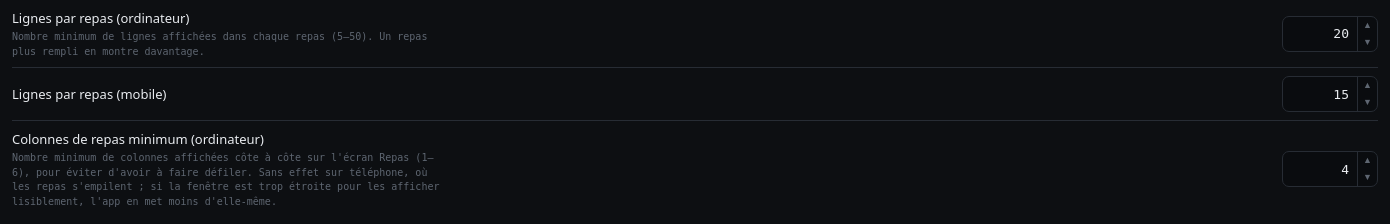
MealLinesFields — minimum meal columns (B-244) › applies the same rule to the line floors (5..50), unchanged by the extraction
Replace the text in the number field named "Lignes par repas (ordinateur)" with "25" at (1330, 34), box [1282,16,1378,52]
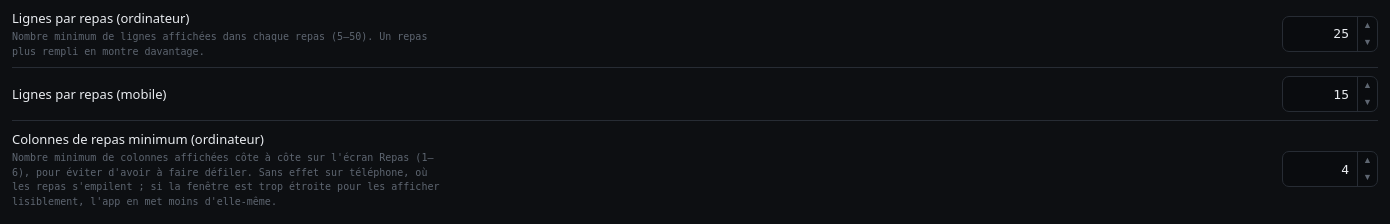
Replace the text in the number field named "Lignes par repas (ordinateur)" with "1" at (1330, 34), box [1282,16,1378,52]
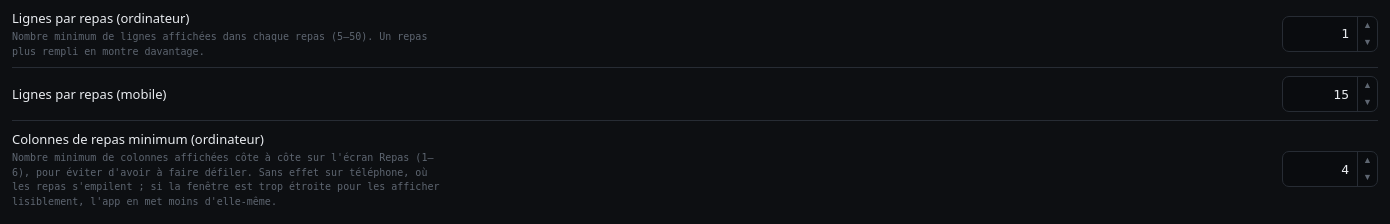
Leave the number field named "Lignes par repas (ordinateur)", box [1282,16,1378,52]
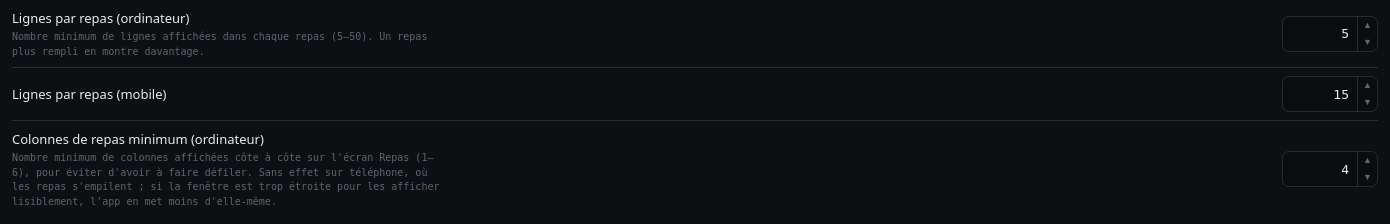
Result: the number field named "Lignes par repas (ordinateur)" holds "5" at [1282,16,1378,52]
